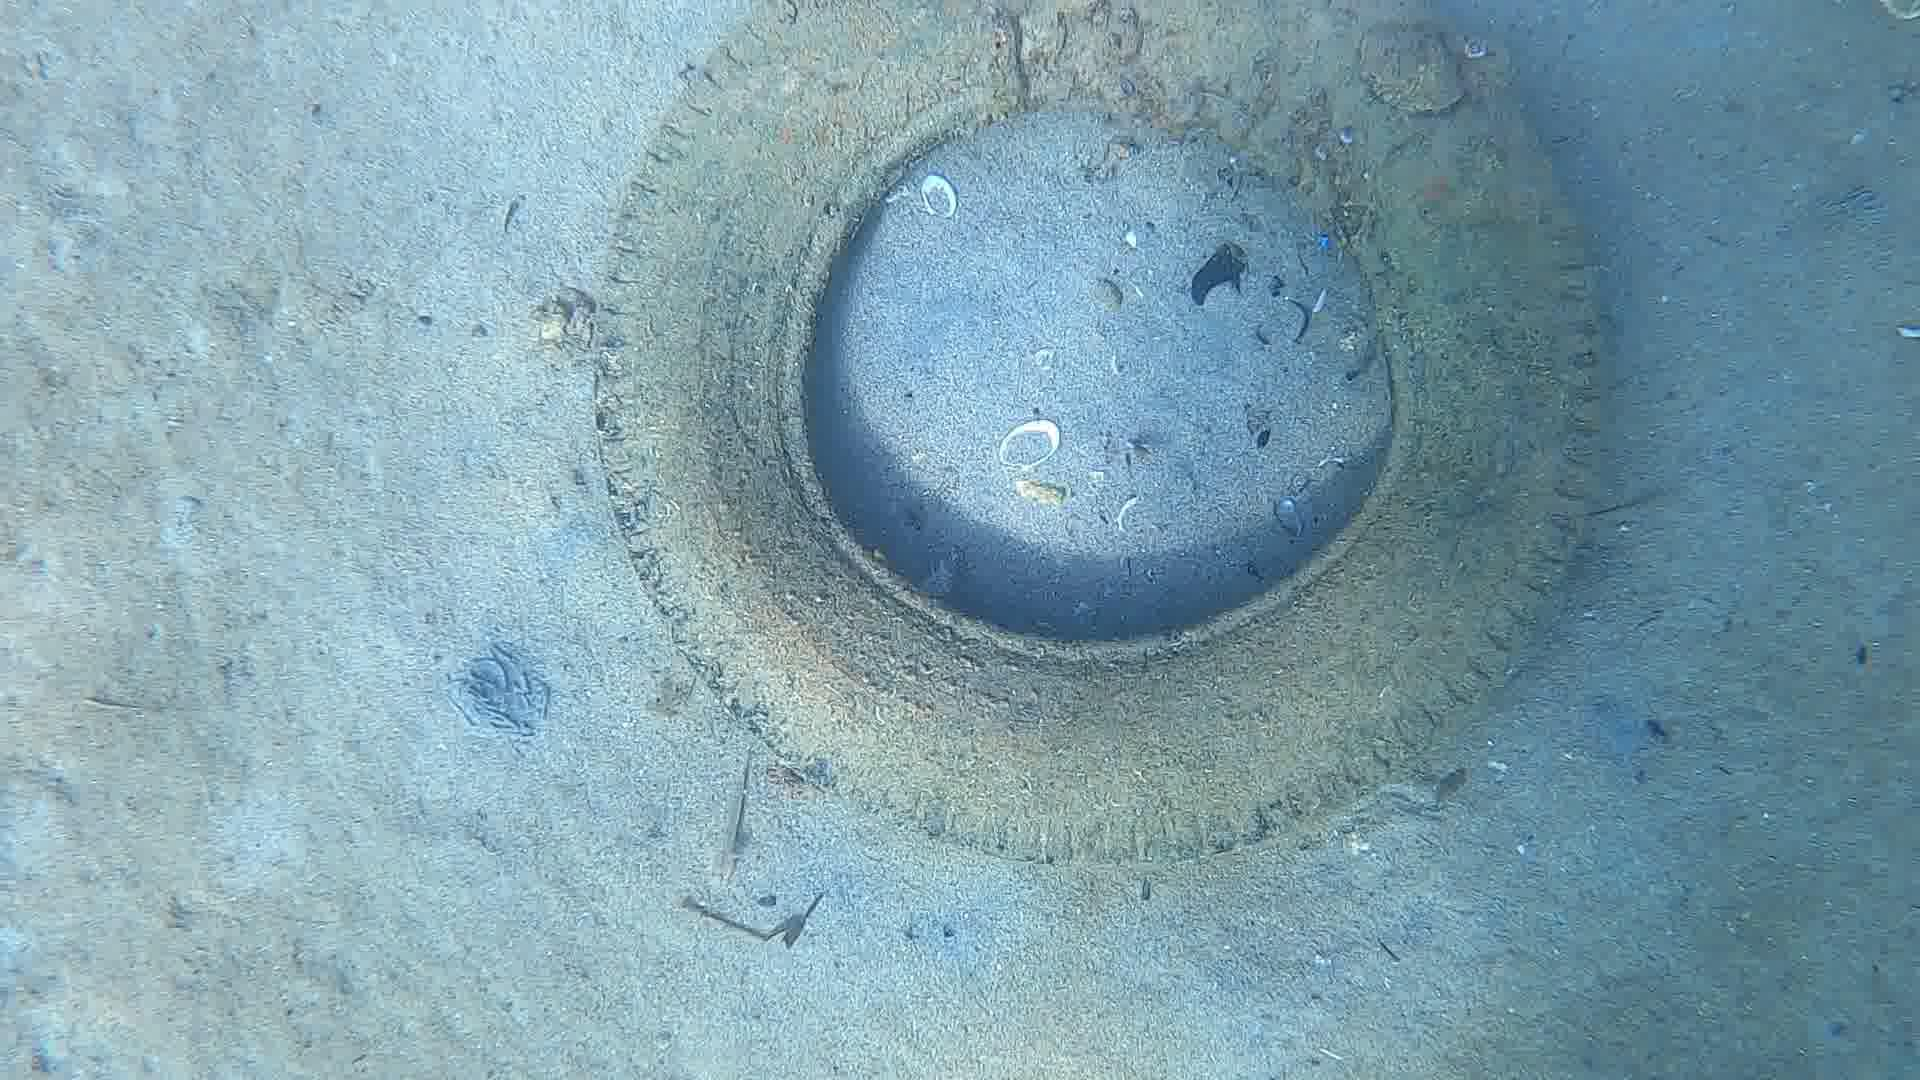tire: (582, 0, 1611, 880)
